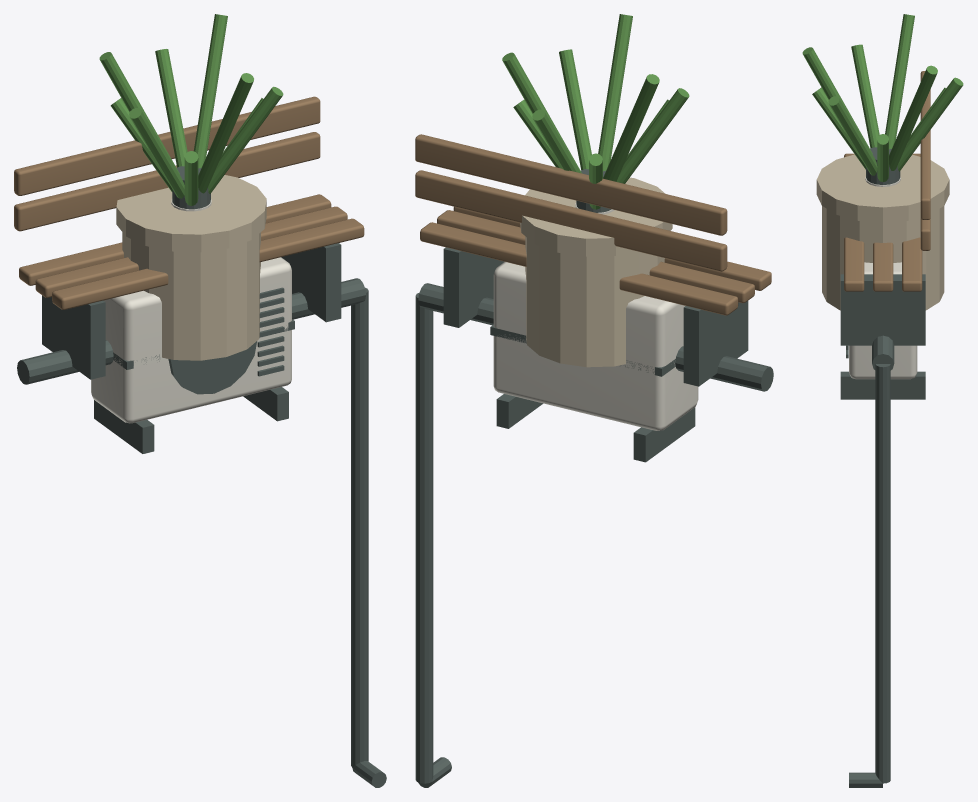
The model's file is detail_kit.glb.
3 views of the same model, side by side, from view 1: azimuth 30°, elevation 25°; view 2: azimuth 150°, elevation 25°; view 3: azimuth 270°, elevation 25° (orthographic). The views are drawn at different scales.
Visible parts, largest first — view 1: Outdoor AC casing, Terracotta pot, Downspout, Pot rim, Back slat, Back slat.001, Seat slat.002, Cast leg, Cast leg.001, Seat slat.001, Seat slat, Gutter (+11 smaller); view 2: Outdoor AC casing, Terracotta pot, Downspout, Back slat.001, Back slat, Seat slat, Cast leg, Pot rim, Cast leg.001, Seat slat.001, Gutter, Tropical foliage.002 (+9 smaller); view 3: Downspout, Pot rim, Terracotta pot, Cast leg.001, Outdoor AC casing, Wall bracket.001, Tropical foliage.005, Tropical foliage.008, Tropical foliage.004, Tropical foliage.007, Seat slat.002, Back slat.001 (+10 smaller).
Part boxes in pixels (bbox=[...]): Outdoor AC casing: bbox=[91, 257, 291, 423]; Terracotta pot: bbox=[122, 232, 260, 360]; Downspout: bbox=[351, 287, 368, 767]; Pot rim: bbox=[116, 175, 266, 252]; Back slat: bbox=[14, 132, 320, 231]; Back slat.001: bbox=[14, 96, 320, 195]; Seat slat.002: bbox=[52, 218, 364, 309]; Cast leg: bbox=[42, 295, 105, 379]; Cast leg.001: bbox=[281, 243, 341, 322]; Seat slat.001: bbox=[35, 206, 347, 297]; Seat slat: bbox=[19, 194, 331, 285]; Gutter: bbox=[17, 278, 365, 384]; Outdoor AC casing: bbox=[493, 262, 698, 430]; Terracotta pot: bbox=[525, 236, 664, 367]; Downspout: bbox=[415, 293, 433, 783]; Back slat.001: bbox=[415, 134, 727, 235]; Back slat: bbox=[415, 170, 727, 271]; Seat slat: bbox=[420, 222, 738, 315]; Cast leg: bbox=[683, 301, 748, 386]; Pot rim: bbox=[520, 177, 672, 256]; Cast leg.001: bbox=[443, 247, 504, 327]; Seat slat.001: bbox=[437, 210, 754, 303]; Gutter: bbox=[418, 283, 773, 391]; Tropical foliage.002: bbox=[598, 14, 632, 171]; Downspout: bbox=[875, 364, 890, 783]; Pot rim: bbox=[816, 154, 949, 222]; Terracotta pot: bbox=[822, 206, 944, 310]; Cast leg.001: bbox=[840, 274, 925, 345]; Outdoor AC casing: bbox=[849, 262, 917, 379]; Wall bracket.001: bbox=[840, 371, 925, 399]; Tropical foliage.005: bbox=[885, 14, 914, 149]; Tropical foliage.008: bbox=[889, 65, 937, 170]; Tropical foliage.004: bbox=[851, 44, 879, 148]; Tropical foliage.007: bbox=[897, 77, 963, 171]; Seat slat.002: bbox=[844, 153, 864, 291]; Back slat.001: bbox=[920, 71, 930, 219].
Size of the model in its own units: 2.05 by 4.36 by 0.9462.
